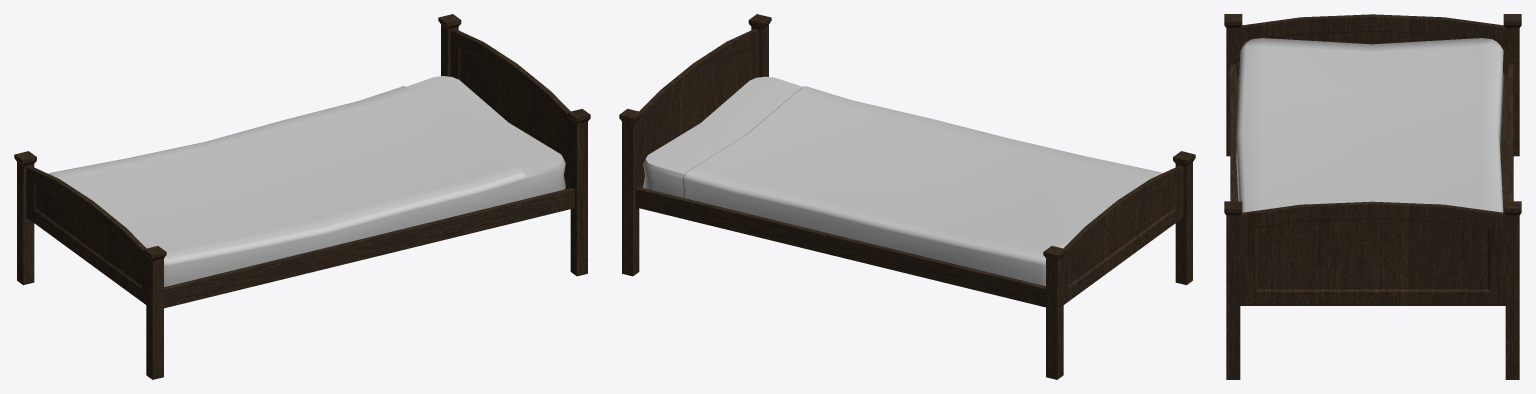
The model's file is bed_5_1.fbx.
The picture shows the model from 3 angles, left to right: view 1: azimuth 30°, elevation 25°; view 2: azimuth 150°, elevation 25°; view 3: azimuth 270°, elevation 25°; orthographic projection. The views are drawn at different scales.
Visible parts, largest first — view 1: bed_5_1; view 2: bed_5_1; view 3: bed_5_1.
Boxes of the visible parts, x1,y1,x2,y2 form: bed_5_1: [14, 14, 590, 379]; bed_5_1: [619, 14, 1195, 379]; bed_5_1: [1224, 14, 1521, 379].
Size of the model in its own units: 2.74 by 0.9621 by 1.49.
